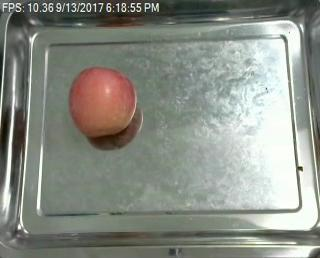apple: (68, 66, 135, 140)
